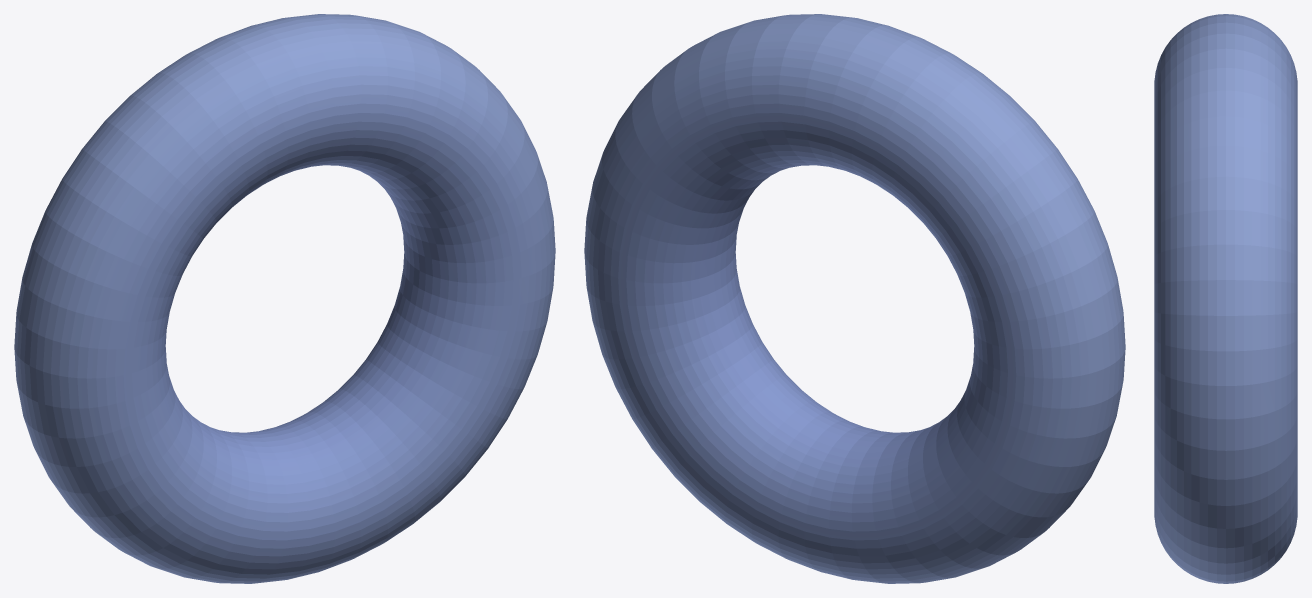
The picture shows the model from 3 angles, left to right: view 1: azimuth 30°, elevation 25°; view 2: azimuth 150°, elevation 25°; view 3: azimuth 270°, elevation 25°; orthographic projection. The views are drawn at different scales.
Parts seen in each view (by area): view 1: world; view 2: world; view 3: world.
Boxes of the visible parts, box(x1,y1,x2,y2) form: world: box(14, 14, 555, 583); world: box(584, 14, 1125, 583); world: box(1154, 14, 1297, 583).
Bounding box in the file's own units: 19.6 × 19.56 × 4.92.
